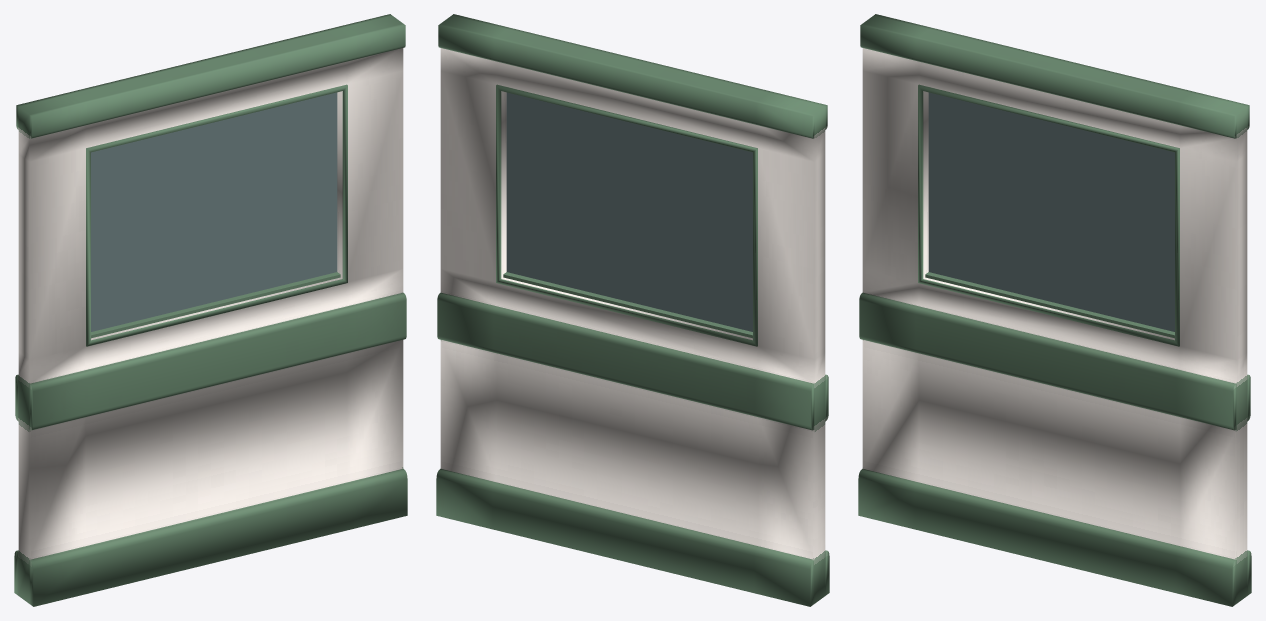
File: Tile_Wall_Window.glb
3 views of the same model, side by side, from view 1: azimuth 30°, elevation 25°; view 2: azimuth 150°, elevation 25°; view 3: azimuth 330°, elevation 25° (orthographic).
Parts seen in each view (by area): view 1: Tile_Wall_Window.001; view 2: Tile_Wall_Window.001; view 3: Tile_Wall_Window.001.
Part boxes in pixels (box(x1,y1,x2,y2)): Tile_Wall_Window.001: box(14, 14, 407, 606); Tile_Wall_Window.001: box(436, 14, 829, 606); Tile_Wall_Window.001: box(858, 14, 1251, 606).
Bounding box in the file's own units: 2 × 2.5 × 0.1769.
Materials: 2 (1 with a texture image).
